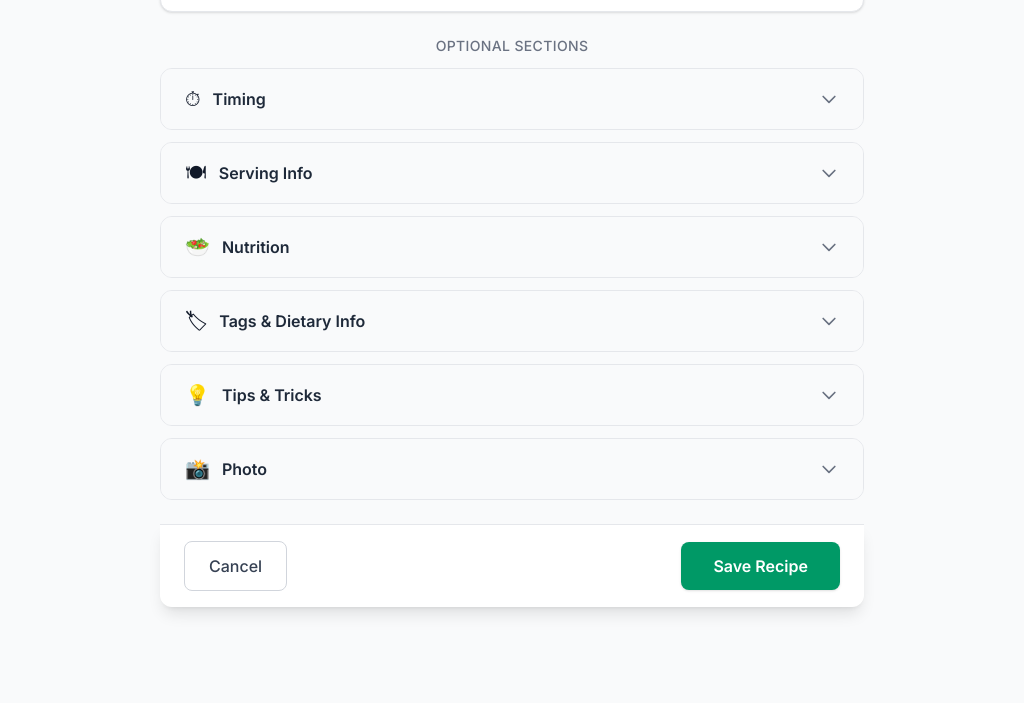
Test: SimpleCreateRecipe › expands Tips & Tricks section when clicked and allows editing tips
(page scrolled)
Click the button "💡 Tips & Tricks".
click(272, 395)  # box [161,365,863,425]
(page scrolled)
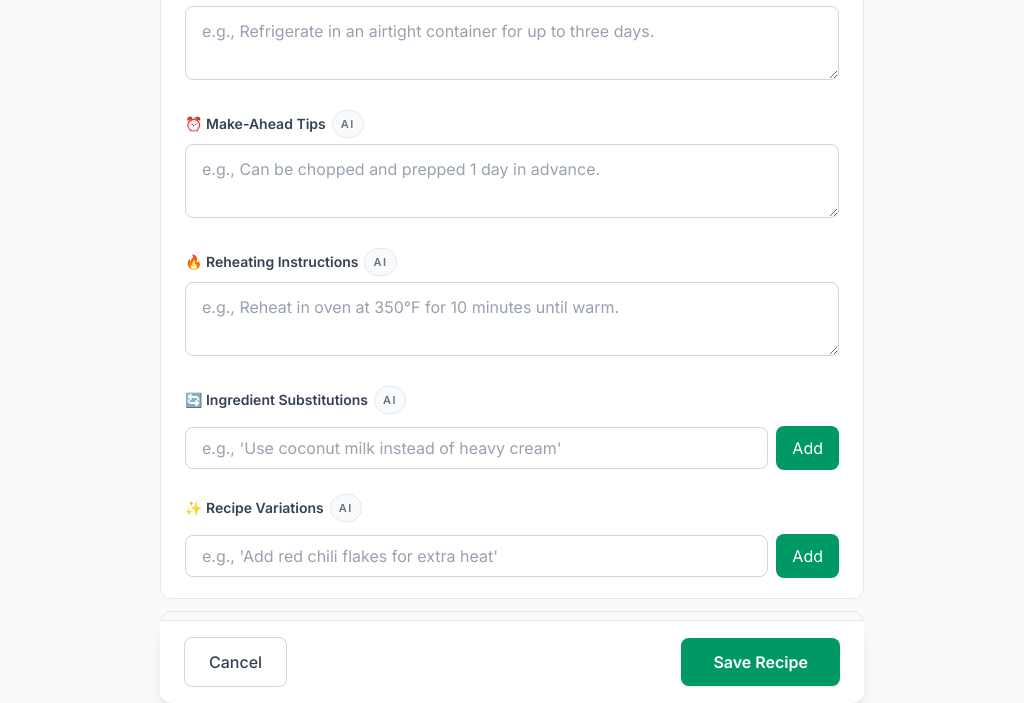
Result: the text box with placeholder "Refrigerate in an airtight container" is shown at [185,6,839,80]
Result: the text box with placeholder "e.g., Can be chopped and prepped 1 day in advance." is shown at [185,144,839,218]
Result: the text box with placeholder "e.g., Reheat in oven at 350°F for 10 minutes until warm." is shown at [185,282,839,356]
